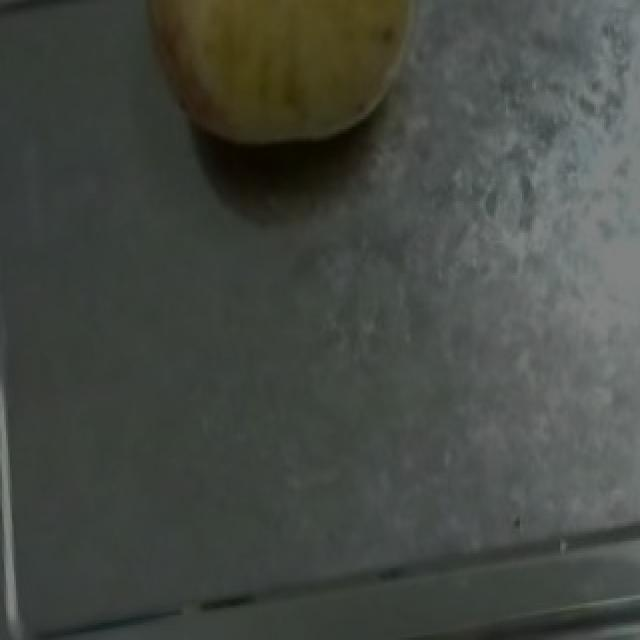Fruit: (114, 0, 448, 161)
